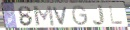8: (17, 6, 34, 27)
G: (71, 4, 90, 26)
J: (92, 4, 106, 27)
L: (108, 5, 125, 26)
M: (32, 5, 56, 27)
V: (52, 6, 69, 26)
